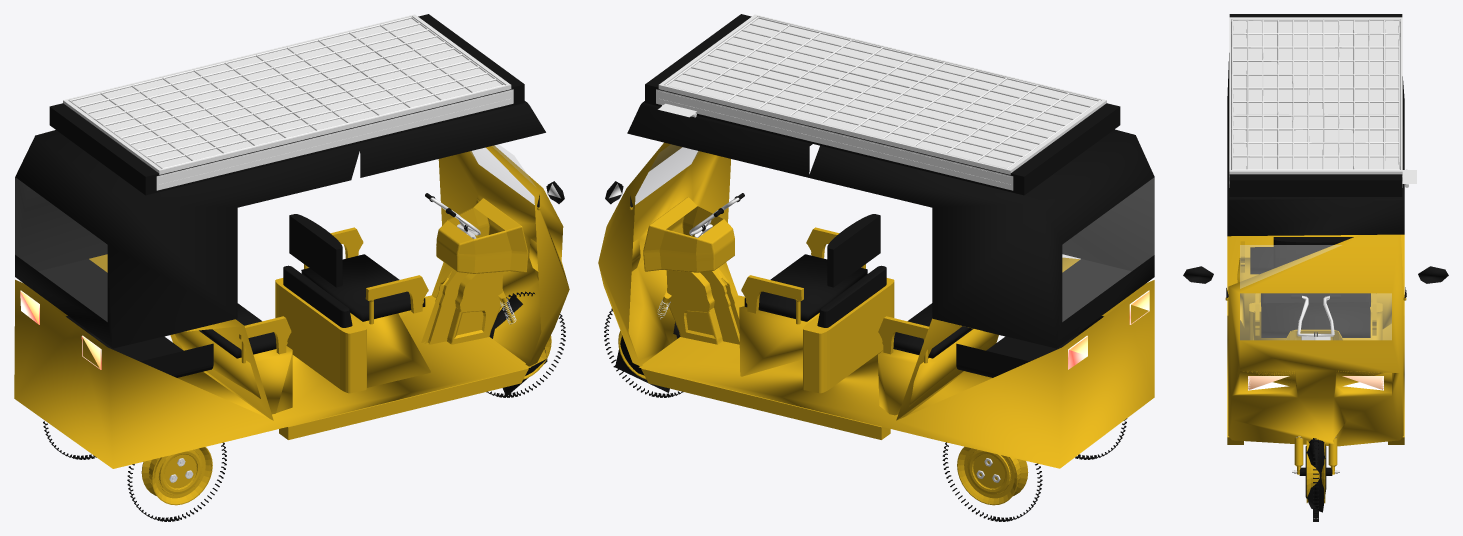
Rendered from keke_napep.glb.
3 renders of one model, left to right at view 1: azimuth 30°, elevation 25°; view 2: azimuth 150°, elevation 25°; view 3: azimuth 270°, elevation 25°, orthographic. The views are drawn at different scales.
Visible parts, largest first — view 1: Cube.003_14, Cube_0, Plane.008_62, Plane.013_71, Cube.006_7, Cube.013_16, Cube.001_13, Cube.024_65, Cube.012_12, Cube.007_8, Cube.009_9, Cube.023_37 (+19 smaller); view 2: Cube.003_14, Cube_0, Plane.008_62, Plane.013_71, Cube.006_7, Cube.013_16, Cube.001_13, Cube.024_65, Cube.012_12, Cube.007_8, Cube.009_9, Cube.023_37 (+19 smaller); view 3: Cube.006_7, Plane.008_62, Cube.005_15, Plane.013_71, Cube.001_13, Cube.024_65, Cube.021_35, Cube.023_37, Plane.010_64, Cube.002_5, BezierCircle_27, Cube.016_18 (+12 smaller).
Boxes of the visible parts, x1,y1,x2,y2 form: Cube.003_14: (15, 130, 360, 348); Cube_0: (14, 279, 530, 468); Plane.008_62: (72, 18, 501, 167); Plane.013_71: (69, 16, 504, 168); Cube.006_7: (431, 145, 569, 366); Cube.013_16: (15, 177, 107, 321); Cube.001_13: (358, 101, 545, 177); Cube.024_65: (49, 14, 524, 195); Cube.012_12: (275, 278, 366, 393); Cube.007_8: (436, 198, 528, 273); Cube.009_9: (421, 268, 503, 344); Cube.023_37: (283, 214, 352, 327); Cube.003_14: (809, 129, 1154, 348); Cube_0: (639, 280, 1154, 468); Plane.008_62: (667, 18, 1097, 167); Plane.013_71: (665, 16, 1100, 168); Cube.006_7: (598, 142, 737, 366); Cube.013_16: (1062, 177, 1154, 321); Cube.001_13: (627, 101, 812, 177); Cube.024_65: (645, 14, 1120, 195); Cube.012_12: (803, 278, 894, 393); Cube.007_8: (643, 197, 734, 272); Cube.009_9: (666, 268, 739, 344); Cube.023_37: (817, 214, 886, 327); Cube.006_7: (1228, 234, 1403, 446); Plane.008_62: (1233, 21, 1398, 169); Cube.005_15: (1240, 245, 1391, 339); Plane.013_71: (1231, 19, 1400, 169); Cube.001_13: (1227, 126, 1404, 236); Cube.024_65: (1229, 14, 1402, 196); Cube.021_35: (1261, 302, 1370, 337); Cube.023_37: (1261, 237, 1370, 306); Plane.010_64: (1229, 17, 1402, 175); Cube.002_5: (1227, 234, 1404, 315); BezierCircle_27: (1305, 438, 1326, 521); Cube.016_18: (1237, 257, 1391, 329).
Size of the model in its own units: 3.07 by 2.09 by 1.56.
